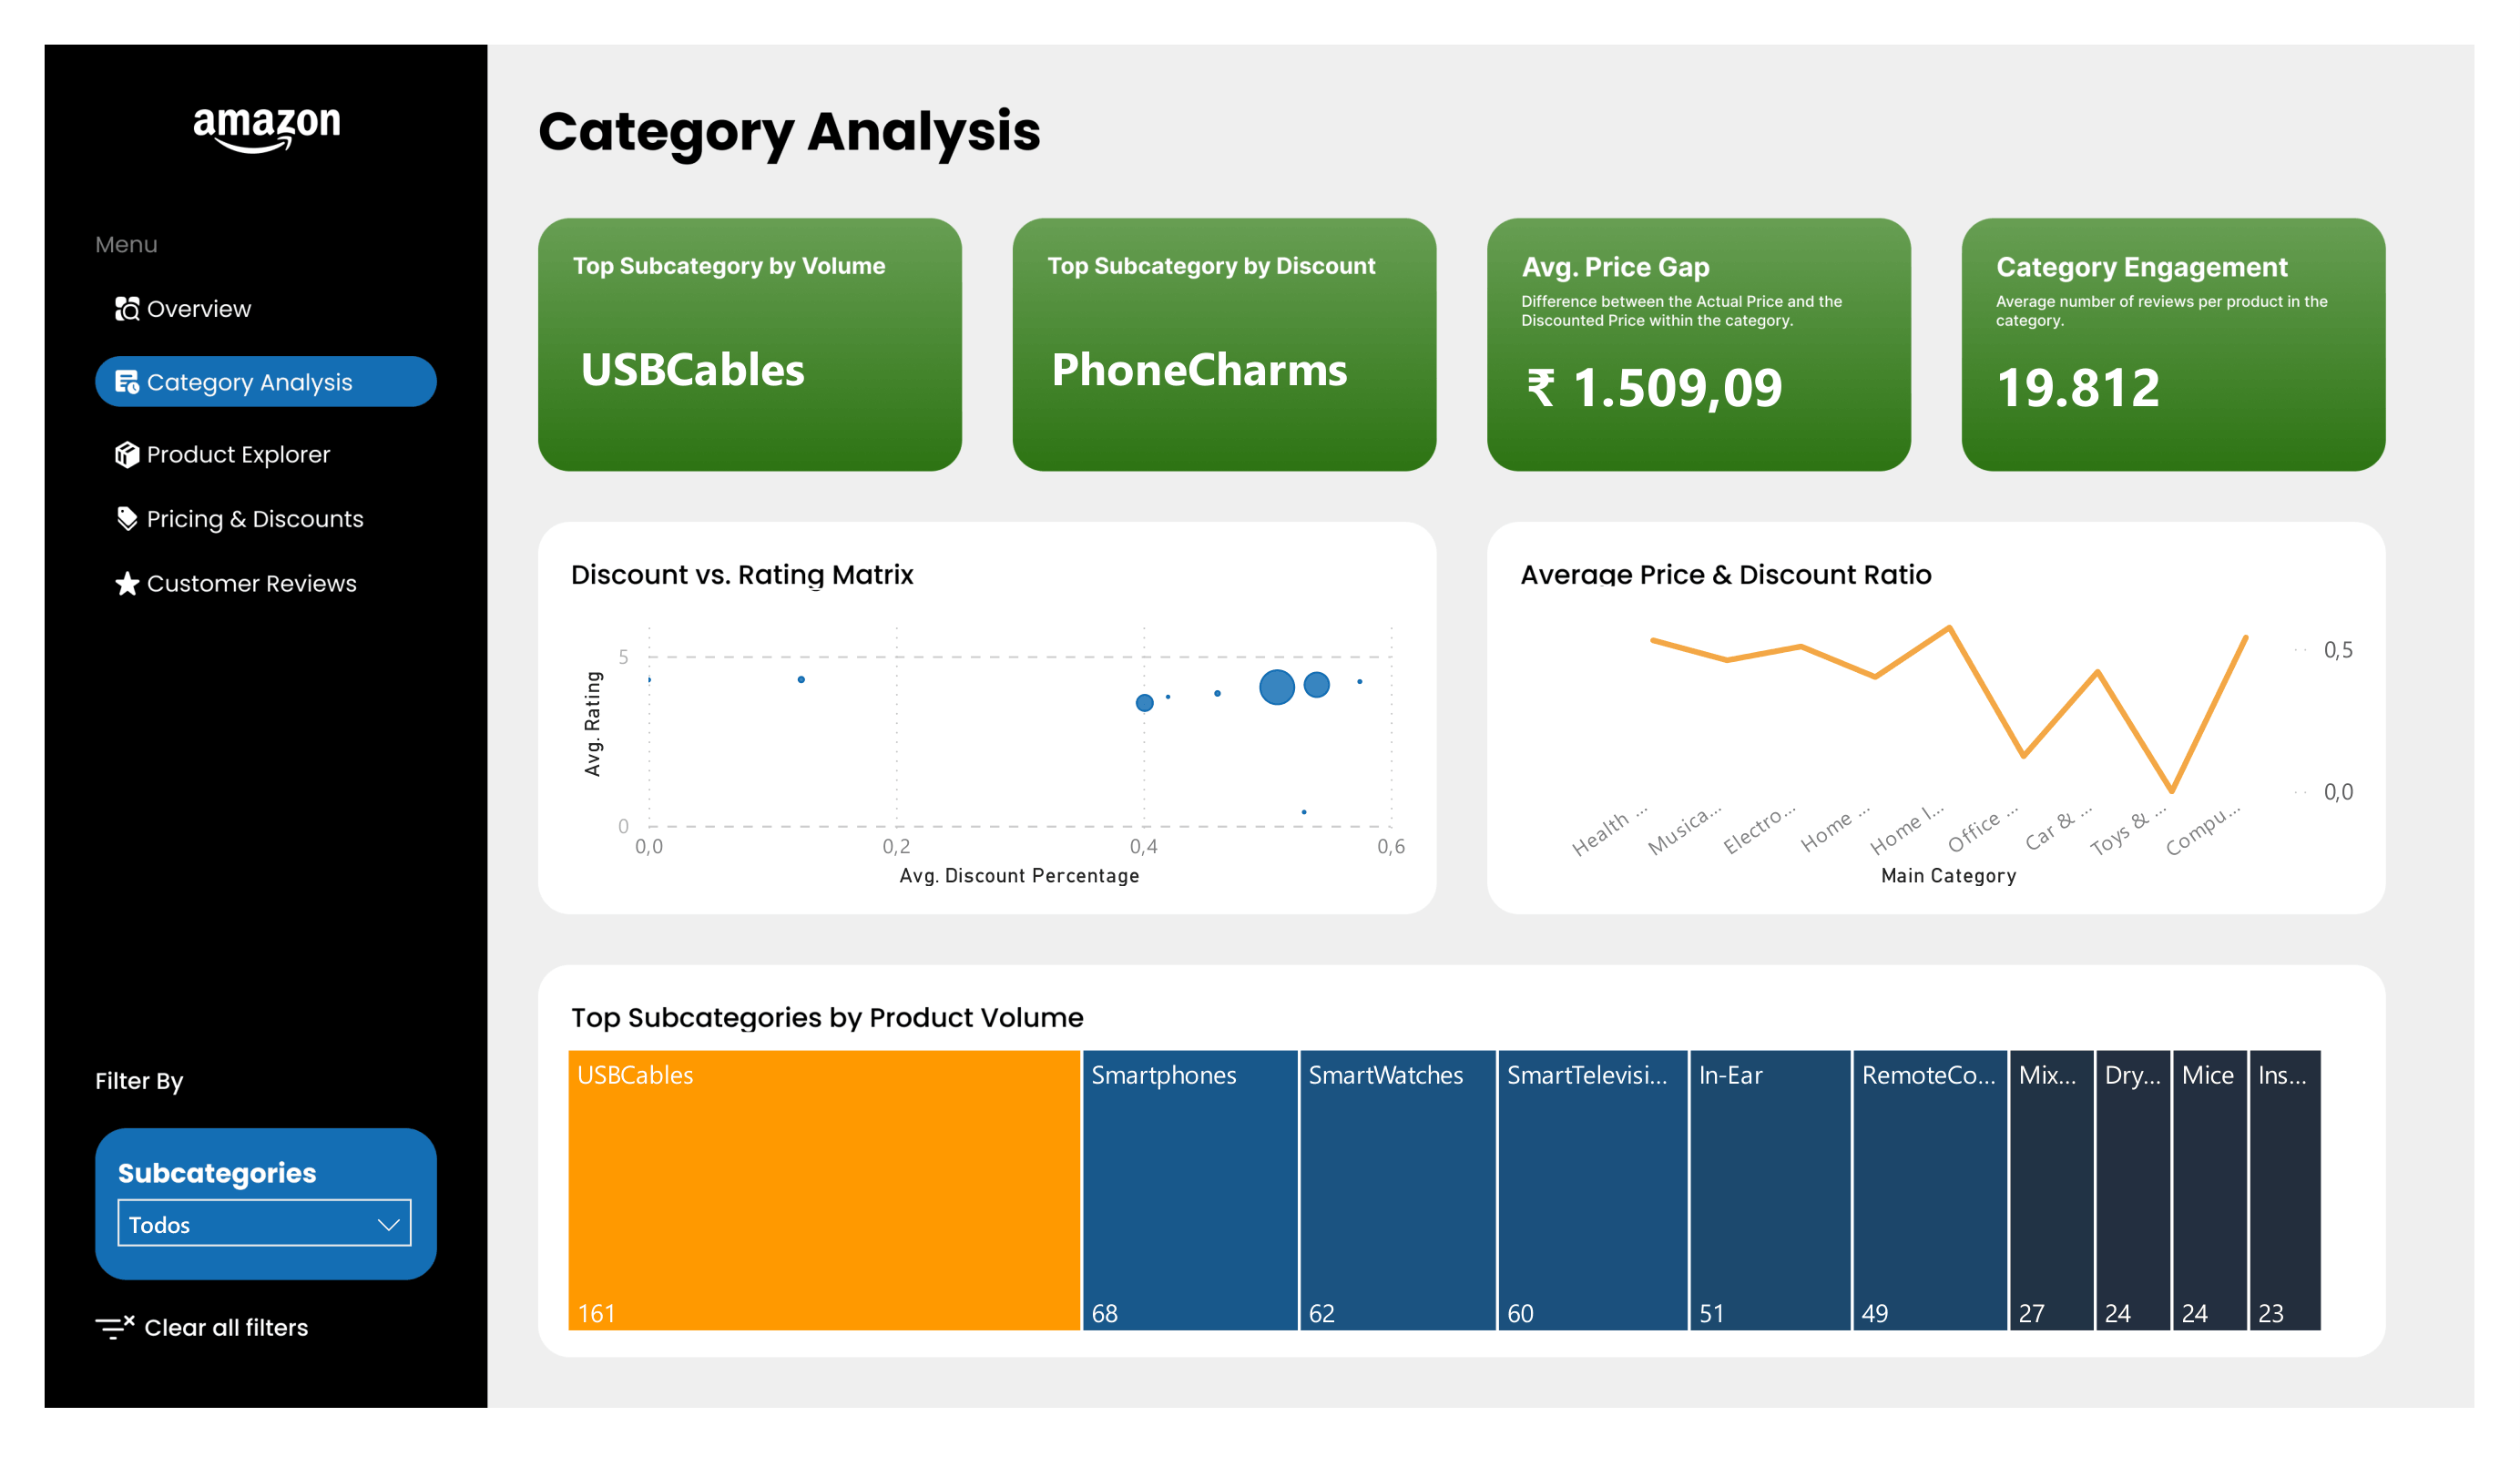

The page's visual inventory and layout, read from the dashboard file:
{"tool":"powerbi","page":{"name":"Category Analysis","canvas":[1280,720],"ordinal":1},"visuals":[{"type":"cardVisual","fields":{"Data":["Category Medidas.Top Category Volume"]},"box":[265,98.3,200,138.3],"z":0},{"type":"cardVisual","fields":{"Data":["Category Medidas.Top Category Discount"]},"box":[513.3,98.3,213.3,138.3],"z":1000},{"type":"cardVisual","fields":{"Data":["Category Medidas.Avg Price Gap"]},"box":[762.5,132.5,198.8,87.5],"z":2000},{"type":"cardVisual","fields":{"Data":["Category Medidas.Category Engagement"]},"box":[1010,132.5,198.8,87.5],"z":3000},{"type":"scatterChart","fields":{"X":["Avg(amazon.discount_percentage)"],"Y":["Avg(amazon.rating_correct)"],"Size":["Sum(amazon.rating_count)"],"Category":["amazon.Main Category"]},"box":[274.4,285.6,451.1,166.7],"z":4000},{"type":"lineStackedColumnComboChart","fields":{"Category":["amazon.Main Category"],"Y":["Category Medidas.Average Discounted Price"],"Y2":["Avg(amazon.discount_percentage)"]},"box":[771.8,285.5,453.6,166.4],"z":5000},{"type":"treemap","fields":{"Values":["Overview Medidas.Total Products Num"],"Group":["amazon.Subcategory"]},"box":[265.6,520,943.3,166.7],"z":6000},{"type":"slicer","fields":{"Values":["amazon.Main Category"]},"box":[33.3,603.3,165,36.7],"z":7000},{"type":"actionButton","box":[24.3,124.4,181.6,28.6],"z":8000},{"type":"actionButton","box":[24.7,164,182,28.7],"z":9000},{"type":"actionButton","box":[24.7,200.3,182,28.7],"z":10000},{"type":"actionButton","box":[24.7,269,182,28.7],"z":11000},{"type":"actionButton","box":[24.7,234.3,182,28.7],"z":12000},{"type":"actionButton","box":[15.7,656.4,181.6,35.8],"z":13000}]}

Visuals, with their boxes on the page's 1280x720 design canvas (x1, y1, x2, y2). These are canvas units, not pixel positions in the 2520x1457 screenshot, which may show the page scaled, cropped or inside an application window:
cardVisual - Category Medidas.Top Category Volume: 265,98,465,237
cardVisual - Category Medidas.Top Category Discount: 513,98,727,237
cardVisual - Category Medidas.Avg Price Gap: 762,132,961,220
cardVisual - Category Medidas.Category Engagement: 1010,132,1209,220
scatterChart - Avg(amazon.discount_percentage) x Avg(amazon.rating_correct): 274,286,726,452
lineStackedColumnComboChart - amazon.Main Category x Category Medidas.Average Discounted Price: 772,286,1225,452
treemap - Overview Medidas.Total Products Num x amazon.Subcategory: 266,520,1209,687
slicer - amazon.Main Category: 33,603,198,640
actionButton: 24,124,206,153
actionButton: 25,164,207,193
actionButton: 25,200,207,229
actionButton: 25,269,207,298
actionButton: 25,234,207,263
actionButton: 16,656,197,692
